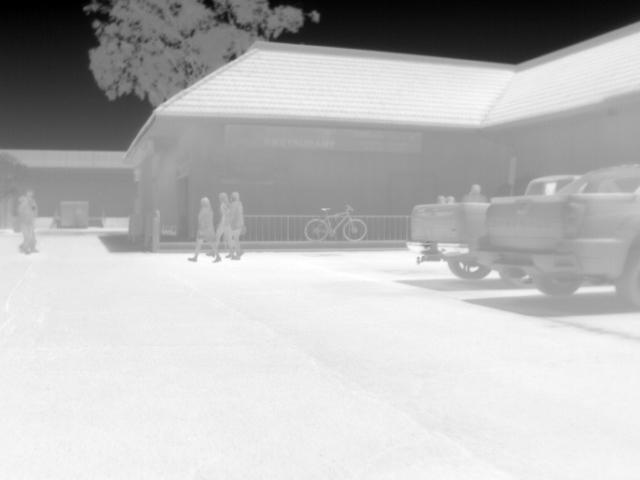car: (473, 161, 639, 306), (405, 174, 583, 278)
person: (188, 197, 223, 262), (213, 192, 239, 262), (227, 190, 245, 258), (17, 195, 37, 255), (24, 190, 40, 253), (458, 182, 486, 202), (435, 193, 446, 203), (445, 195, 456, 203)
